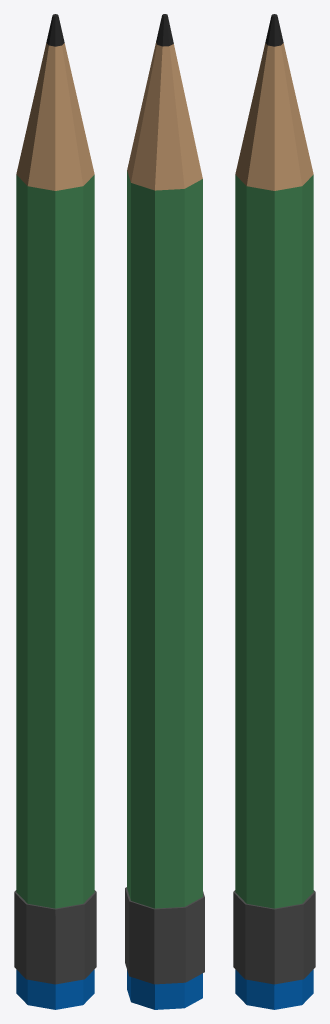
Rendered from CrayonPapier.fbx.
3 renders of one model, left to right at view 1: azimuth 90°, elevation 25°; view 2: azimuth 210°, elevation 25°; view 3: azimuth 270°, elevation 25°, orthographic.
Parts seen in each view (by area): view 1: CrayonPapier; view 2: CrayonPapier; view 3: CrayonPapier.
Boxes of the visible parts, x1,y1,x2,y2 form: CrayonPapier: (14,14,96,1009); CrayonPapier: (125,14,204,1009); CrayonPapier: (233,14,315,1009).
Bounding box in the file's own units: 1.05 × 13.76 × 1.05.
